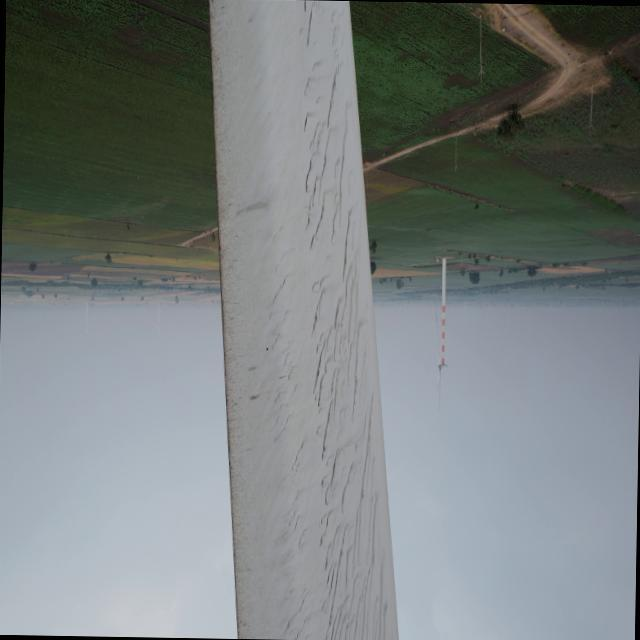Dirt: (273, 2, 401, 640)
